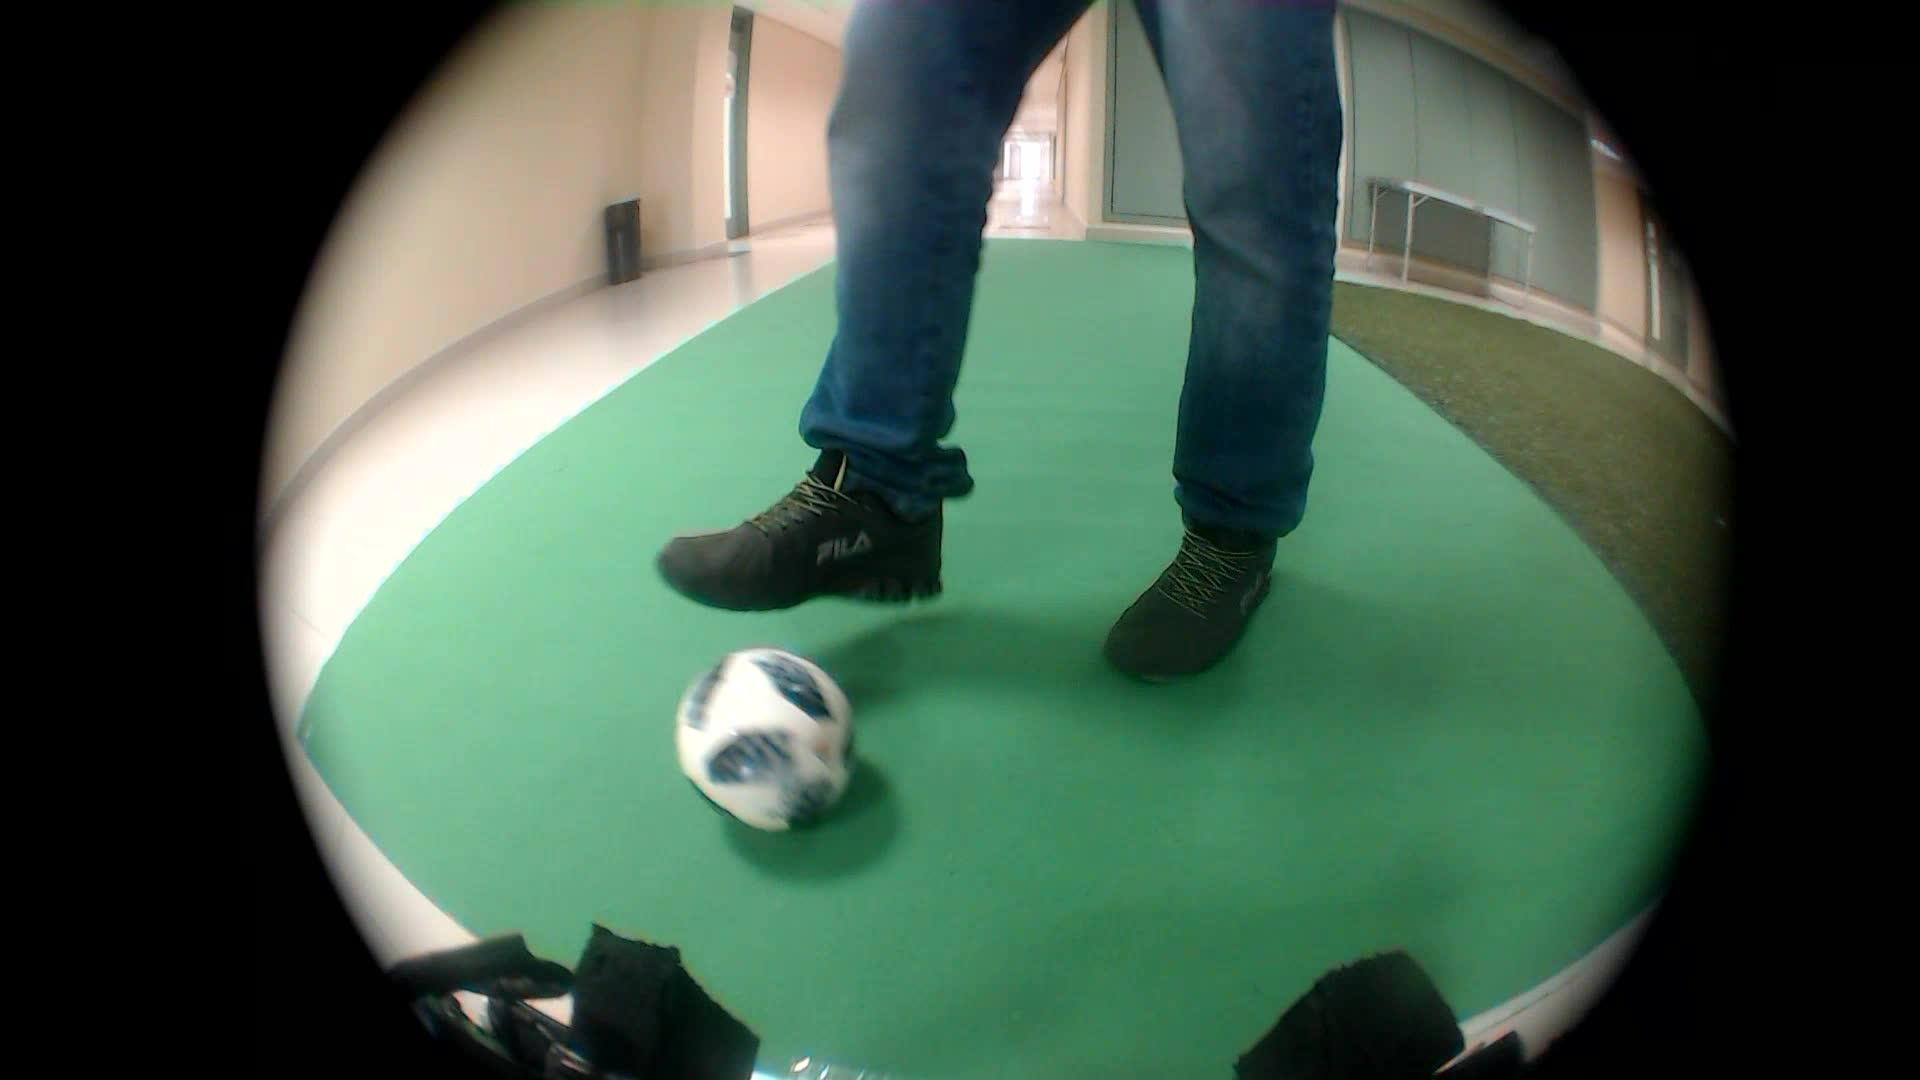ball: (659, 622, 886, 849)
